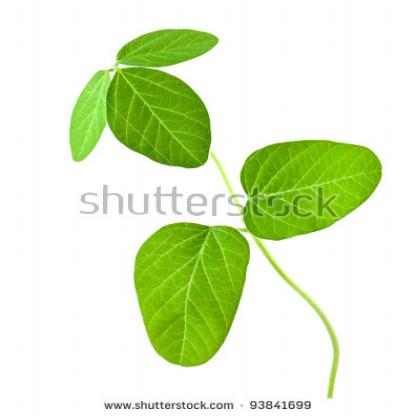soybean leaf: (129, 220, 249, 369), (237, 133, 387, 242), (103, 63, 215, 171), (64, 65, 118, 166), (110, 25, 224, 71)
